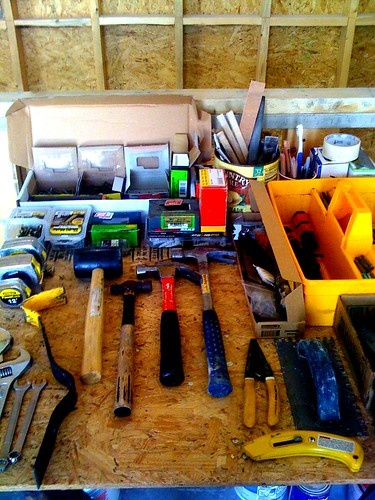hammer: (170, 244, 240, 395), (135, 262, 200, 383), (72, 248, 120, 382), (111, 279, 152, 414)
